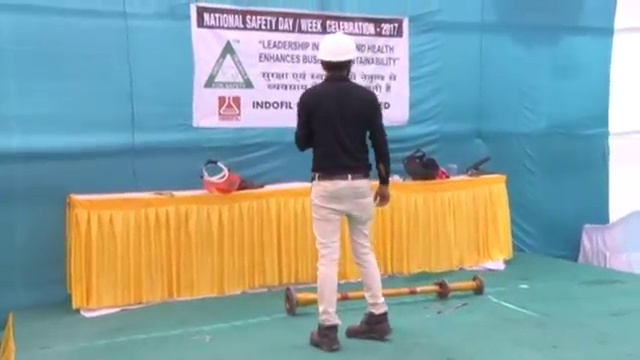helmet: (314, 31, 357, 65)
helmet_on: (313, 31, 358, 82)
person: (295, 32, 393, 351)
